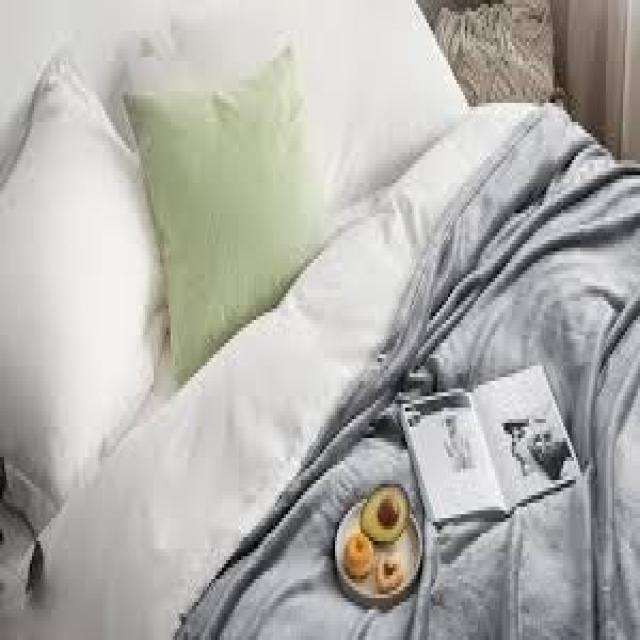blanket: (180, 107, 640, 637)
